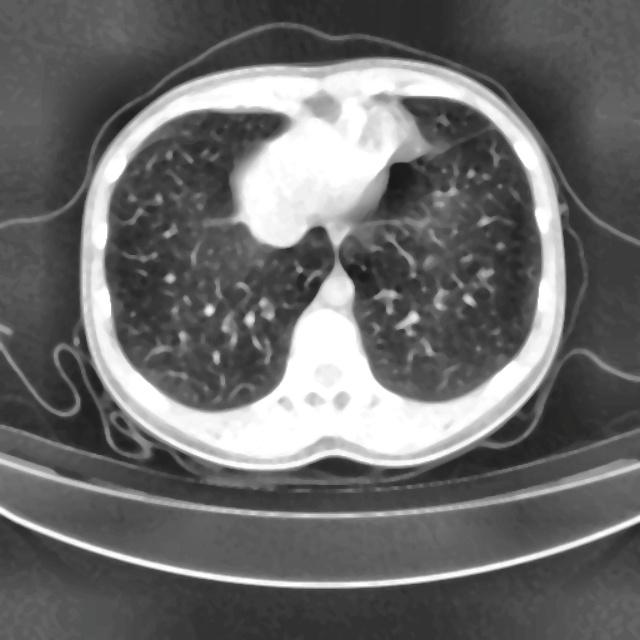covid: (78, 56, 566, 475)
